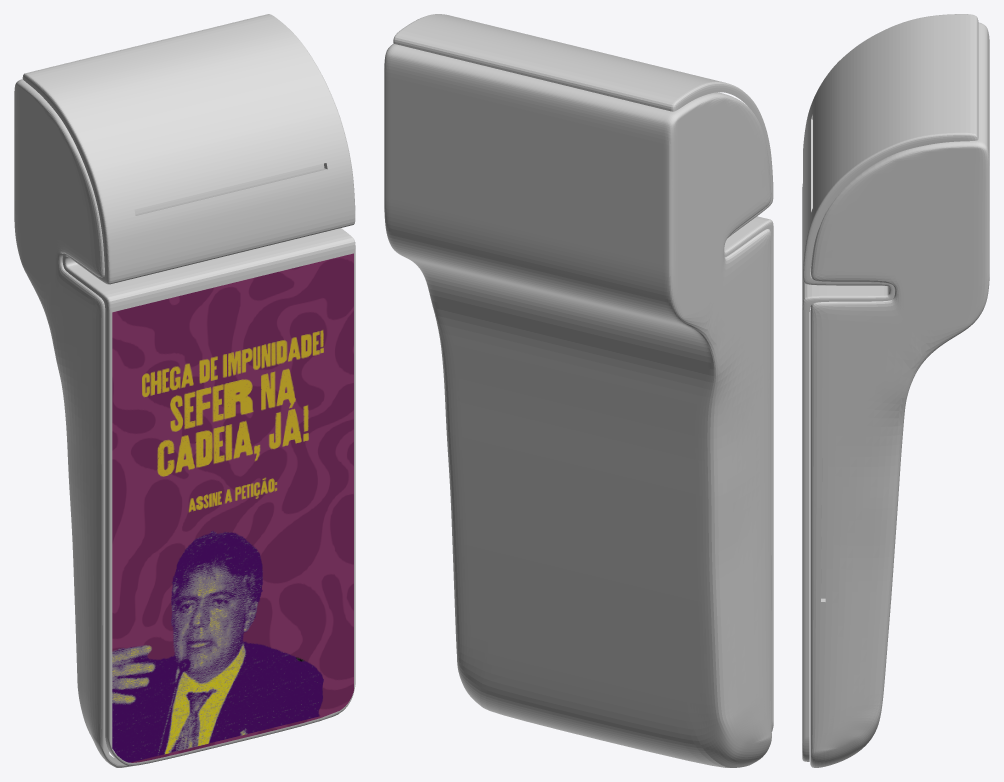
The model's file is pos-p2.glb.
The picture shows the model from 3 angles, left to right: view 1: azimuth 30°, elevation 25°; view 2: azimuth 150°, elevation 25°; view 3: azimuth 270°, elevation 25°; orthographic projection. The views are drawn at different scales.
Parts seen in each view (by area): view 1: Screen, Frame; view 2: Frame; view 3: Frame.
Boxes of the visible parts, x1,y1,x2,y2 form: Screen: [112, 253, 353, 762]; Frame: [14, 14, 355, 767]; Frame: [384, 14, 773, 767]; Frame: [802, 14, 989, 767].
Size of the model in its own units: 0.745 by 1.8 by 0.4764.
2 materials, 1 textured.
